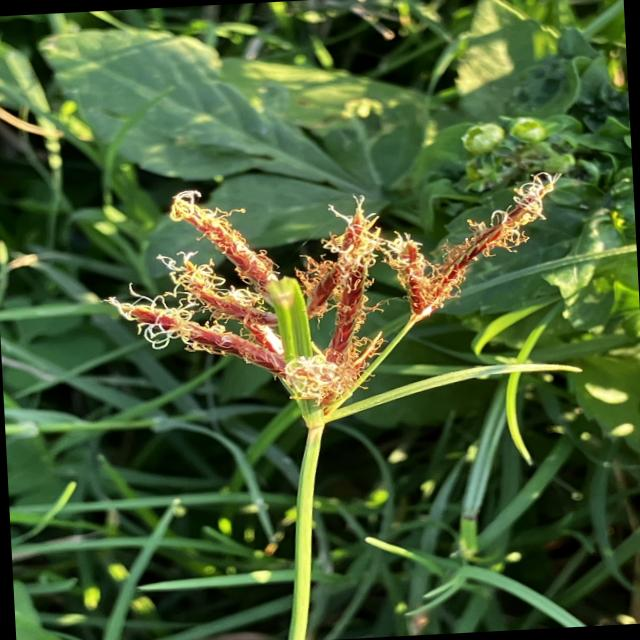cyperus: (99, 154, 592, 461)
